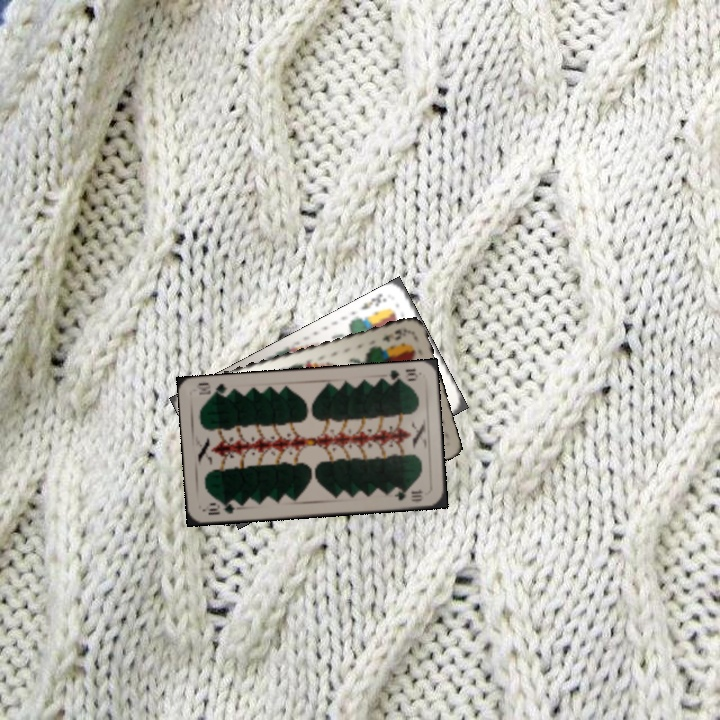EK: (357, 290, 389, 313), (378, 325, 407, 345)
G10: (381, 364, 420, 386), (204, 498, 242, 518)
